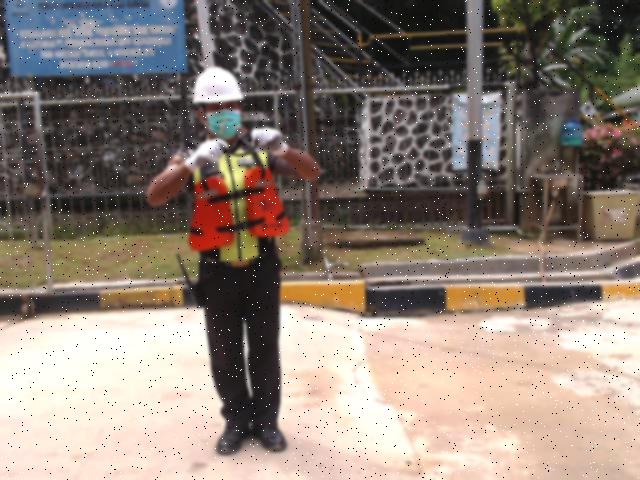glasses: (221, 134, 259, 162)
gloves: (183, 138, 229, 177), (250, 124, 290, 163)
helmet: (191, 66, 246, 105)
mask: (207, 108, 243, 137)
safety-shoes: (216, 417, 252, 456), (255, 421, 292, 454)
vest: (186, 166, 289, 252)
